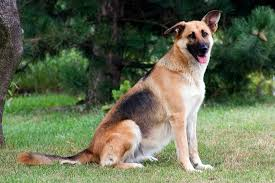dog_sitting: (68, 9, 223, 176)
